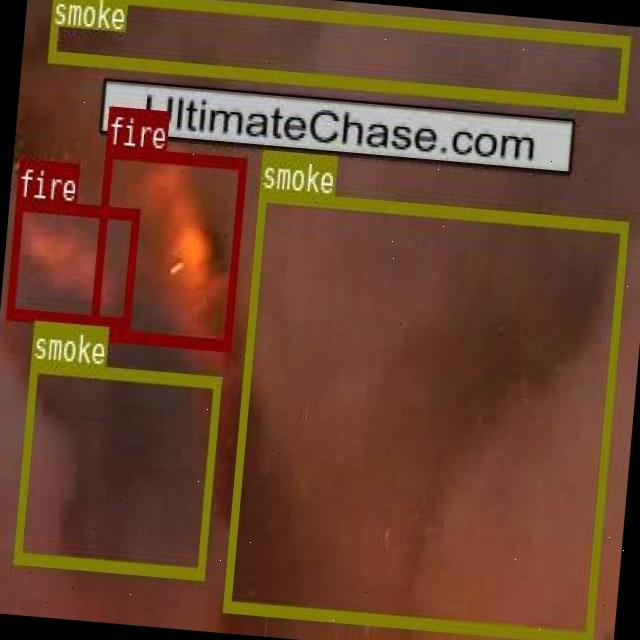fire: (89, 145, 245, 347), (6, 197, 139, 328)
smoke: (221, 188, 626, 640), (48, 0, 629, 108), (12, 360, 220, 579)
